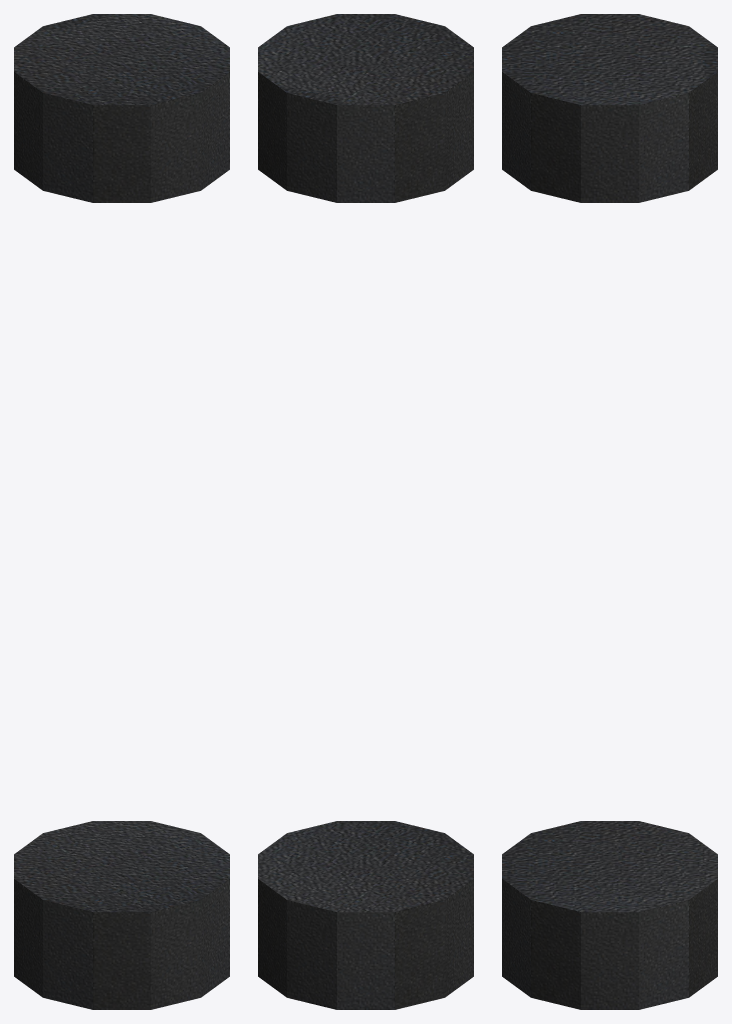
Rendered from lamp_1.fbx.
3 renders of one model, left to right at view 1: azimuth 30°, elevation 25°; view 2: azimuth 150°, elevation 25°; view 3: azimuth 270°, elevation 25°, orthographic.
Parts seen in each view (by area): view 1: cylinder; view 2: cylinder; view 3: cylinder.
Boxes of the visible parts, <box> form: cylinder: <box>14,14,229,1009</box>; cylinder: <box>258,14,473,1009</box>; cylinder: <box>502,14,717,1009</box>.
Bounding box in the file's own units: 100 × 462 × 100.
